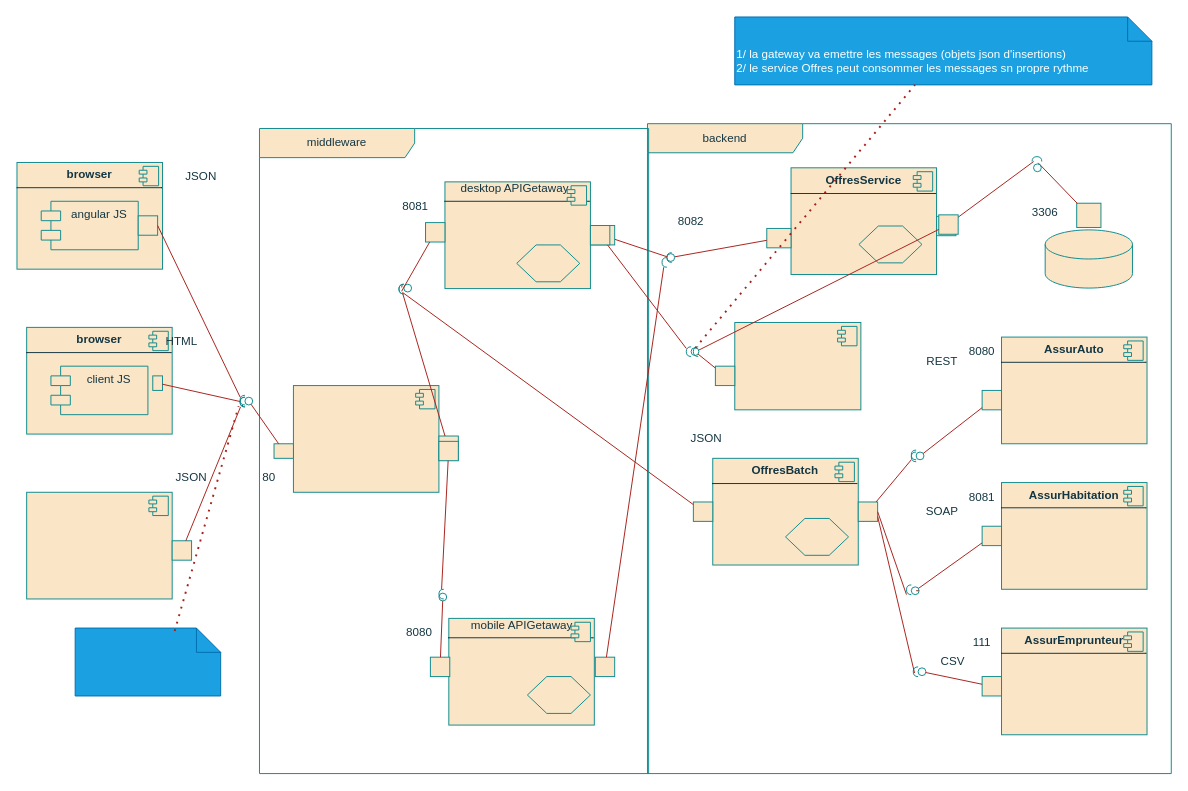
The diagram is 1188 pixels wide and 791 high, and some of its shapes have lost their labels. Here are the shapes that lost their labels. From the top down, the box of each, then its label:
(734, 322, 861, 410): JobQueue MoM RabbitMQ
(292, 385, 439, 492): ingress Ctrl Reverse Proxy + VirtualHost a besoin d'un LB interne
(26, 491, 172, 599): Mobile App
(74, 627, 221, 696): noms de domaine différents
